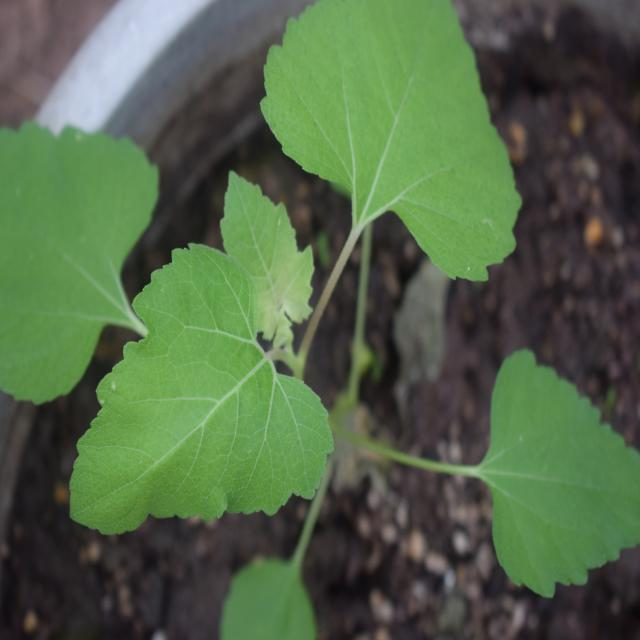cocklebur: (10, 9, 583, 558)
